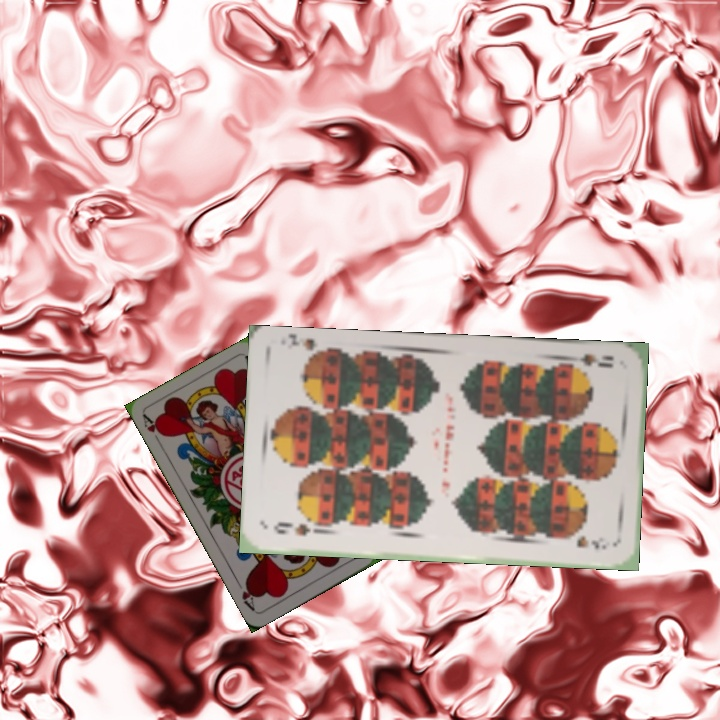HA: (139, 411, 167, 449)
S9: (562, 350, 616, 373), (270, 519, 324, 538)
